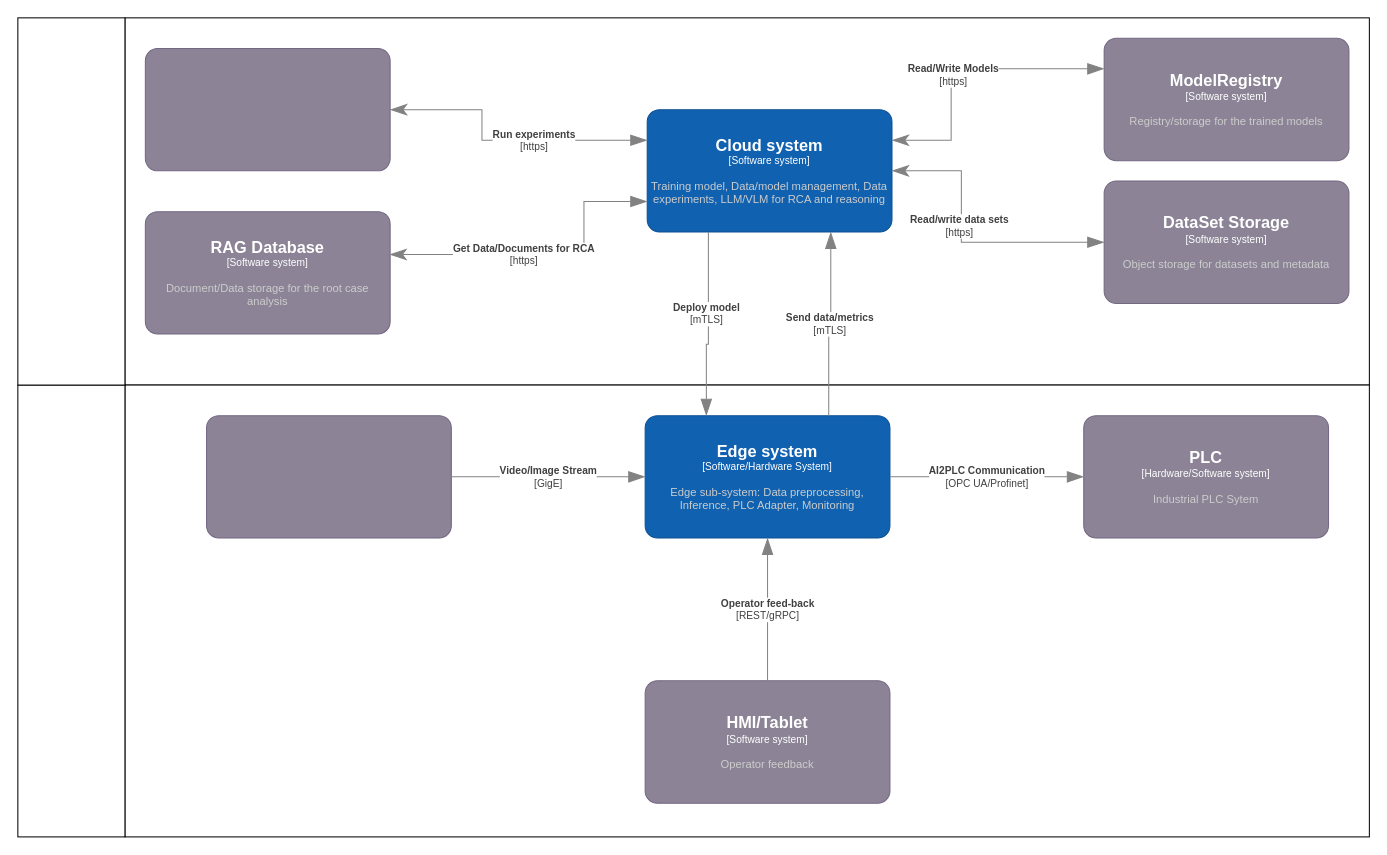
This 1387x855 diagram has some shape labels left out. Each missing label, with the centre of its shape:
Cloud: the point at 71,201
Edge: the point at 71,610
Industrial Camera [Hardware system] Industrial camera: the point at 328,476
Jupyter Notebooks [Software system] System for model(s) experiment: the point at 267,109
